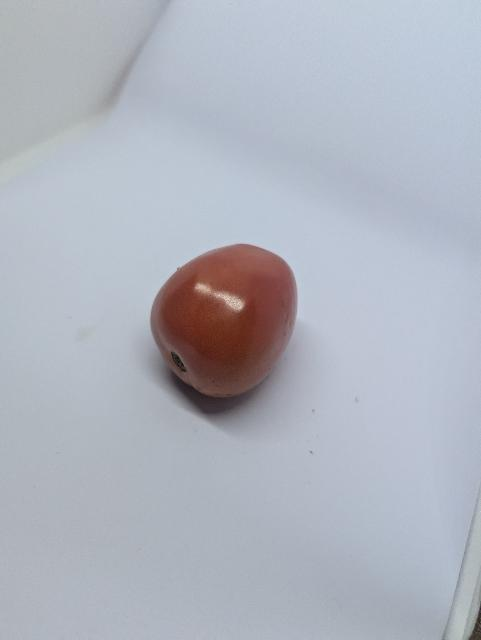red: (133, 227, 310, 414)
